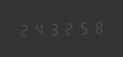eight: (88, 19, 101, 35)
five: (74, 19, 87, 36)
four: (31, 21, 44, 37)
three: (46, 20, 59, 37)
two: (17, 21, 30, 38), (60, 20, 73, 36)
